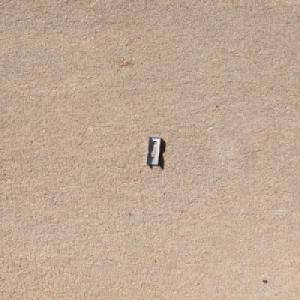ClampPart: (144, 135, 162, 165)
